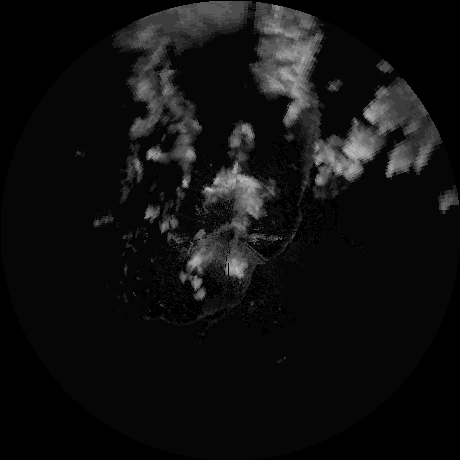frontgust: (269, 168, 311, 259), (183, 278, 251, 326)
